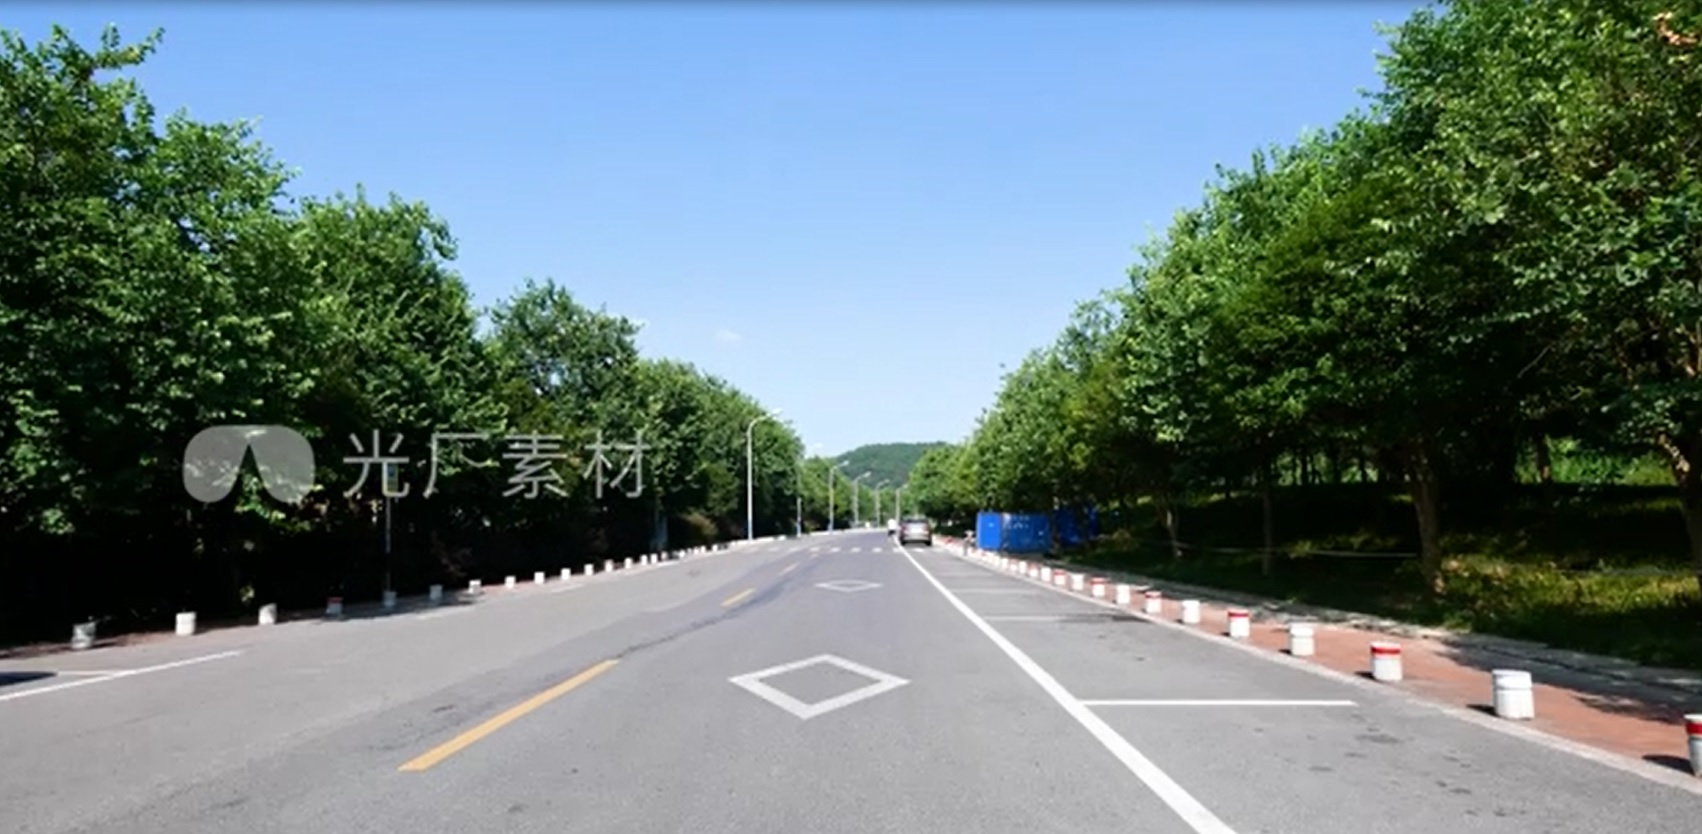slot_nocar: (1044, 669, 1702, 834), (955, 603, 1413, 728), (930, 578, 1150, 633), (903, 542, 1055, 596)
